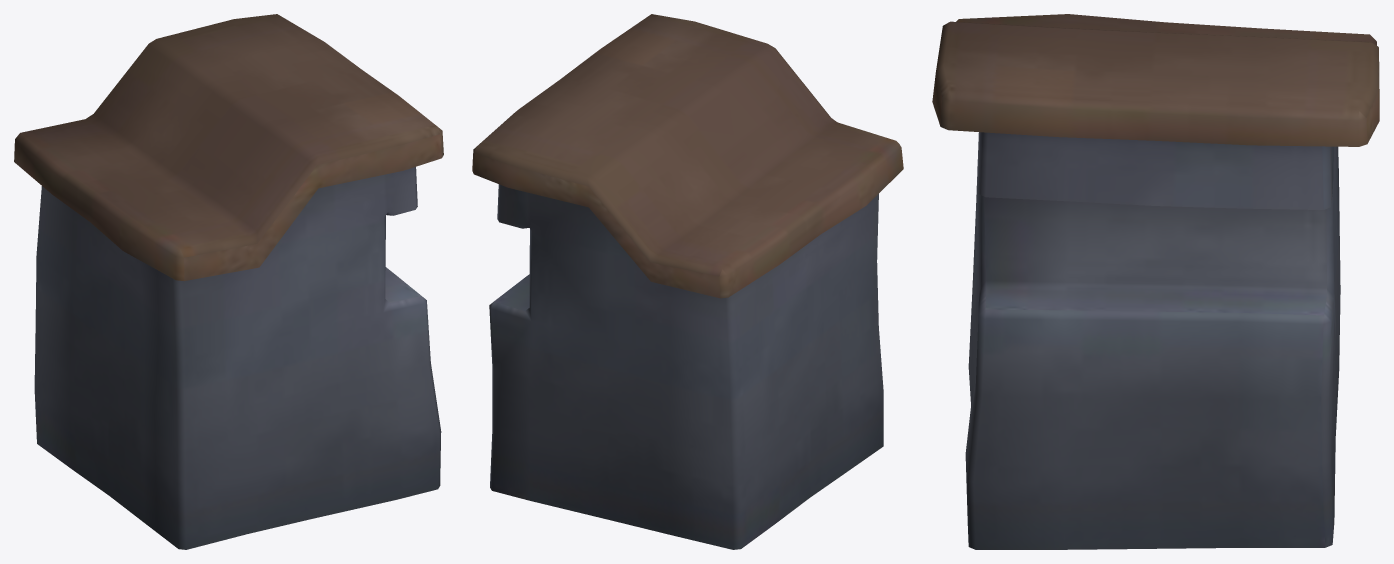
File: MSH_Building_015.glb
3 views of the same model, side by side, from view 1: azimuth 30°, elevation 25°; view 2: azimuth 150°, elevation 25°; view 3: azimuth 270°, elevation 25° (orthographic). The views are drawn at different scales.
Parts seen in each view (by area): view 1: Base.005; view 2: Base.005; view 3: Base.005.
Part boxes in pixels (<box>): Base.005: <box>14,14,443,549</box>; Base.005: <box>472,14,903,549</box>; Base.005: <box>932,14,1379,549</box>.
Size of the model in its own units: 5.61 by 7.03 by 6.31.
Materials: 1 (1 with a texture image).
